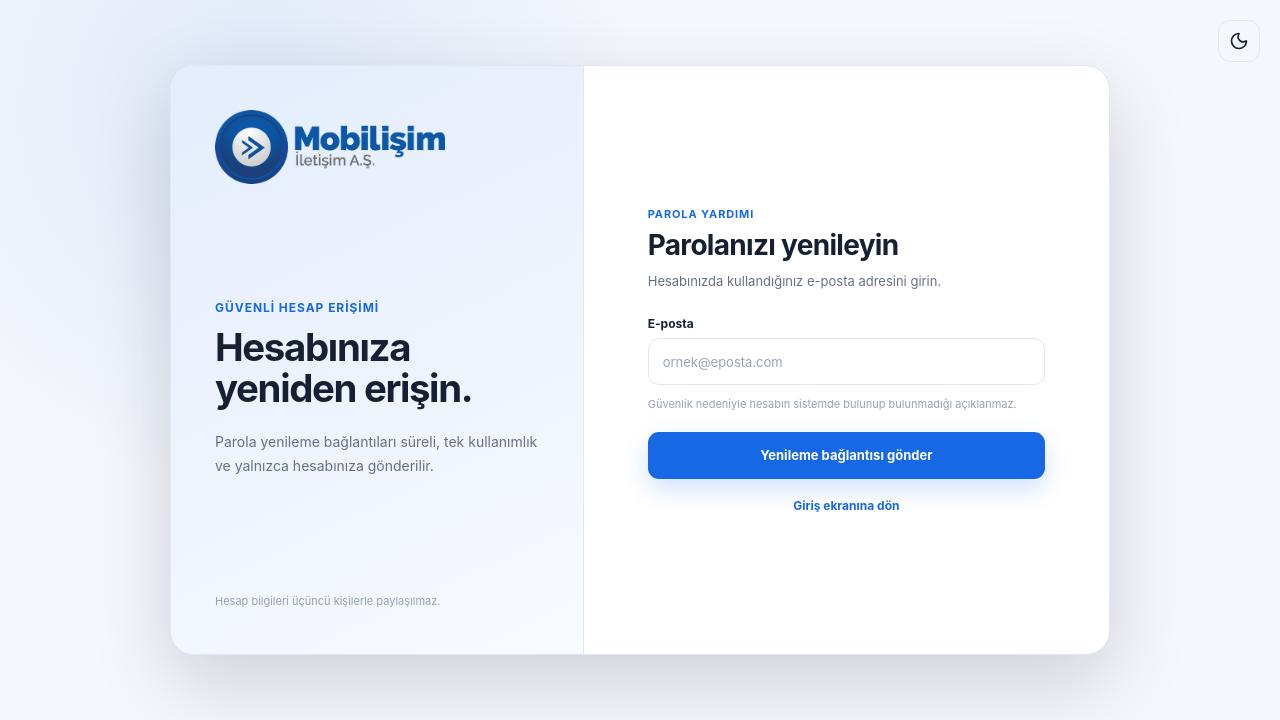
it: ForgotPasswordScreen › boş e-posta adresini göndermeyi reddeder
The image size is (1280, 720).
Click the button "Yenileme bağlantısı gönder": click(846, 455) x1=648 y1=432 x2=1045 y2=479
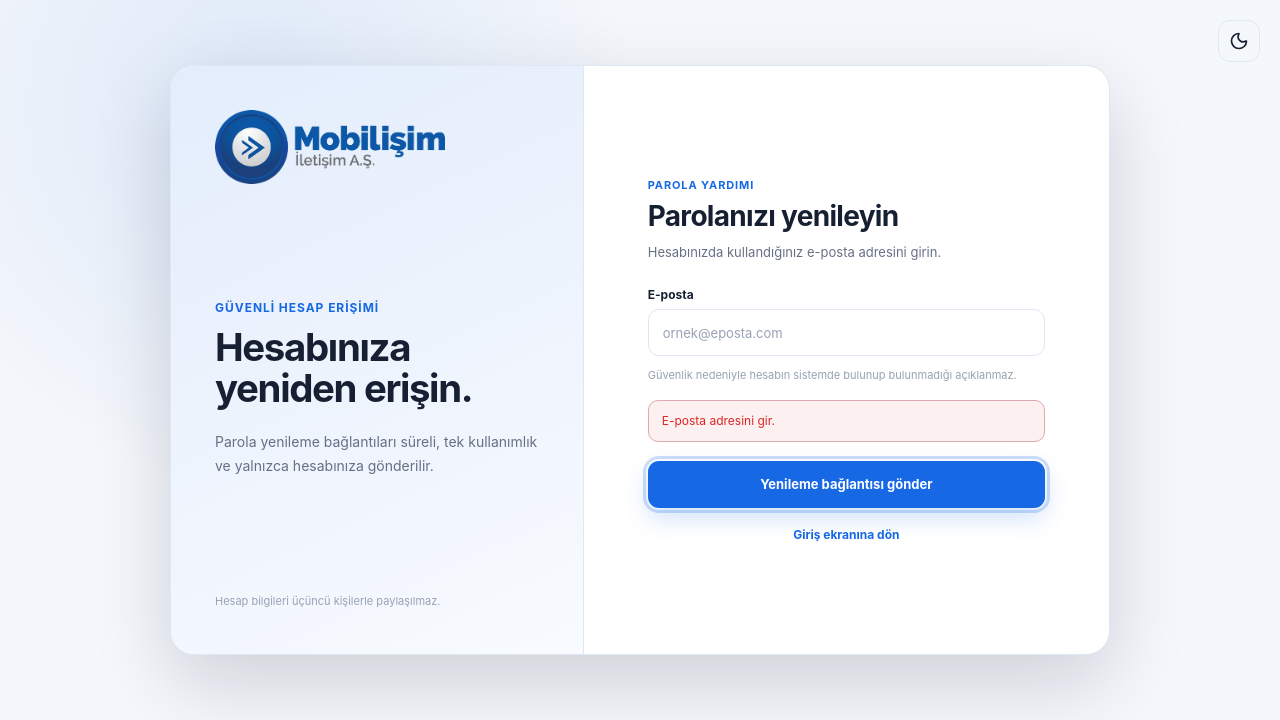
Result: the message reads "E-posta adresini gir." at x1=662 y1=413 x2=775 y2=428
